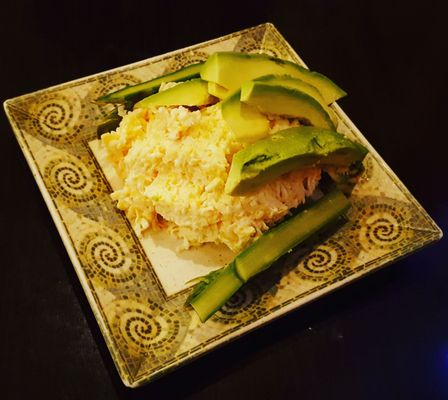soup: (85, 26, 377, 335)
